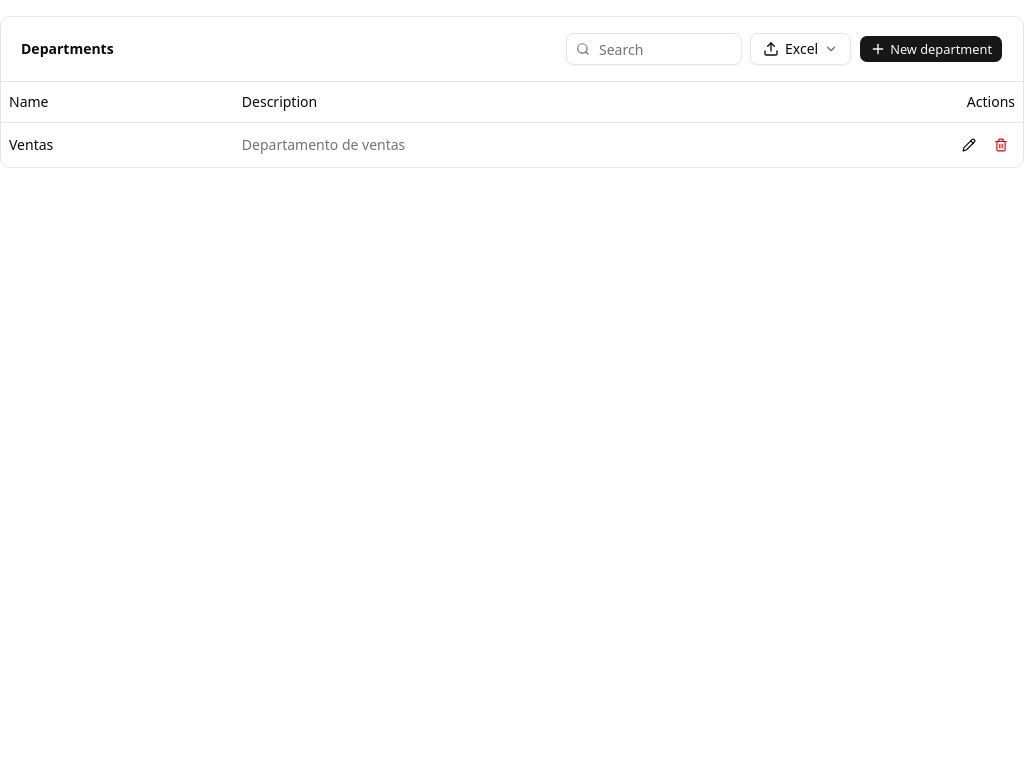
Test: Create department dialog after editing an existing department › opens with empty fields instead of the previously edited department data
The image size is (1024, 768).
Expected: the text "Ventas" is shown, [1,122,234,166]
Click the button named "Edit" at (969, 144), box [955,130,983,158]
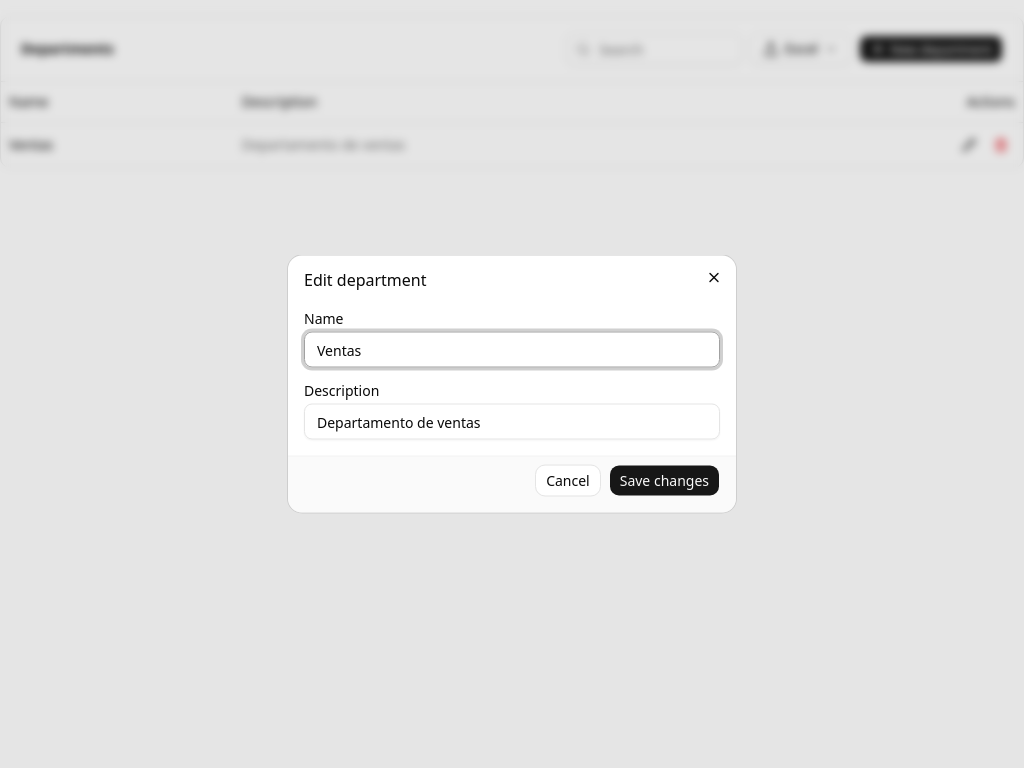
Expected: the heading "Edit department" is shown, [304,268,426,290]
Expected: the field with placeholder "Name" holds "Ventas", [304,332,720,368]
Expected: the field with placeholder "Description (optional)" holds "Departamento de ventas", [304,404,720,440]
Note: Close without saving, as a user would after just inspecting the record
Click the button "Cancel" at (568, 480), box [535,464,601,496]
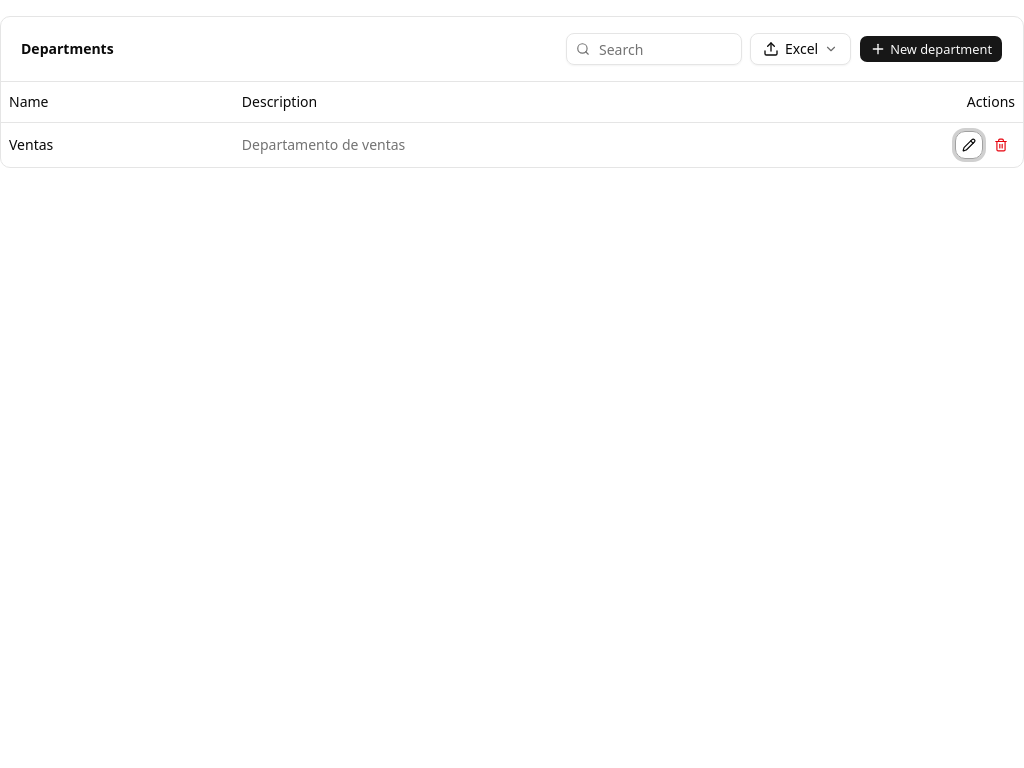
Expected: the heading "Edit department" is gone
Note: Now open the create dialog — same form instance is reused
Click the button "New department" at (931, 49), box [859,35,1003,63]
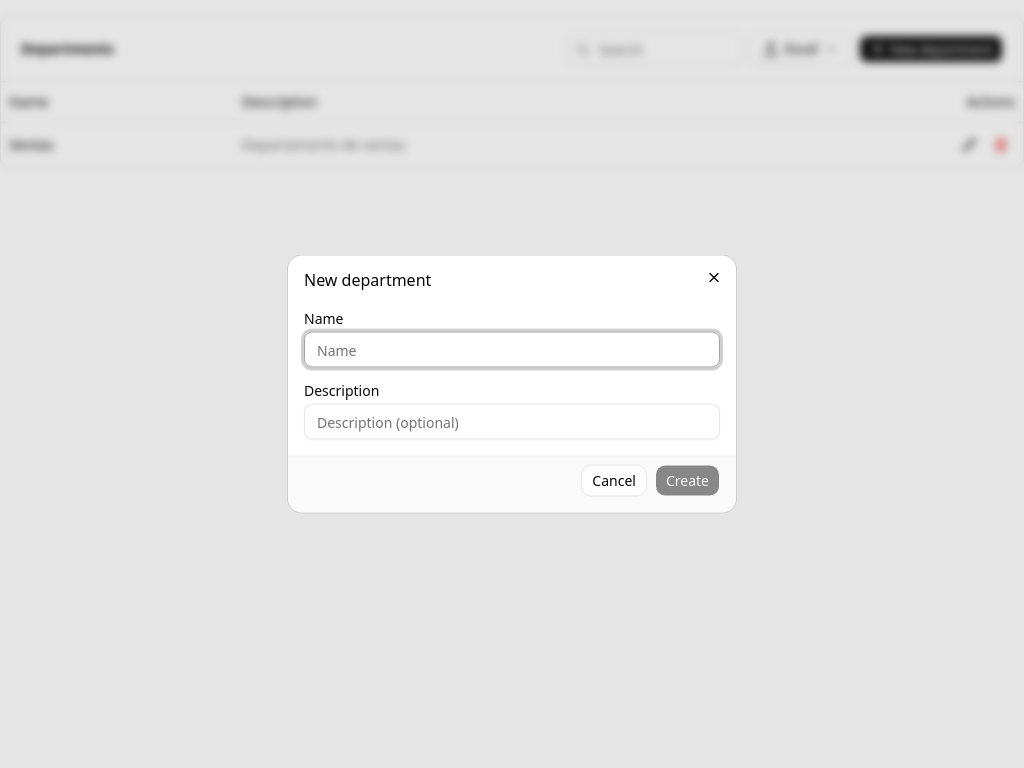
Expected: the heading "New department" is shown, [304,268,431,290]
Expected: the field with placeholder "Name" is empty, [304,332,720,368]
Expected: the field with placeholder "Description (optional)" is empty, [304,404,720,440]
